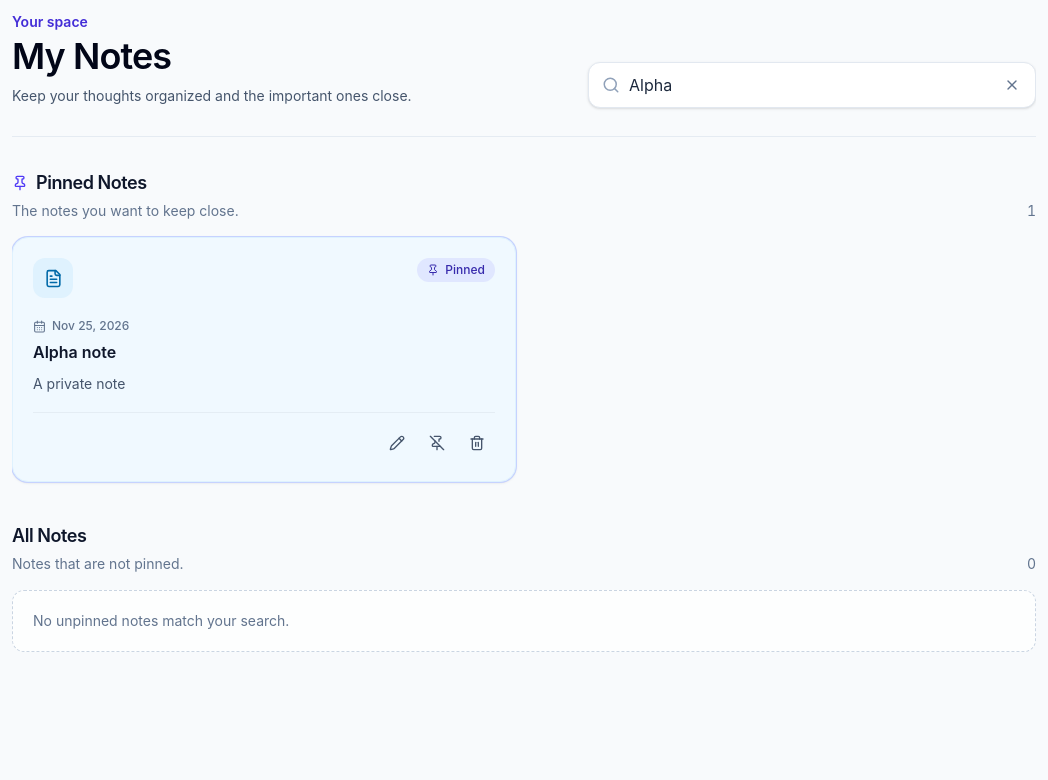
Test: Dashboard › pins and unpins through user-scoped Supabase updates without duplicating cards
Earlier steps of the test are not shown.
Later steps or results of the test are not shown.
Expected: the element "Pinned Notes" is shown, 12,169 -> 1036,482
Expected: the number of headings "Alpha note" is 1, 33,342 -> 116,362
What coordinates should you click on to do the following:
click the button named "Unpin note: Alpha note"
I would click on:
 (437, 443)
Its box is 419,425 -> 455,461.
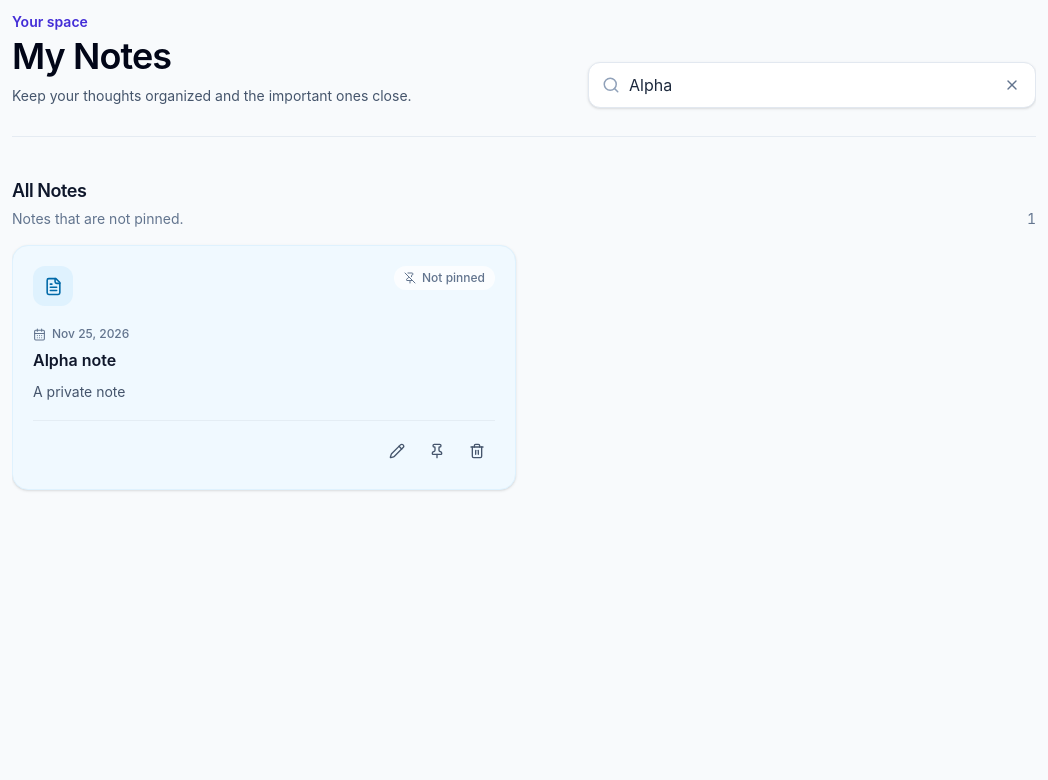
Expected: the heading "Alpha note" is shown, 33,350 -> 116,370
Now the heading "Pinned Notes" is gone
